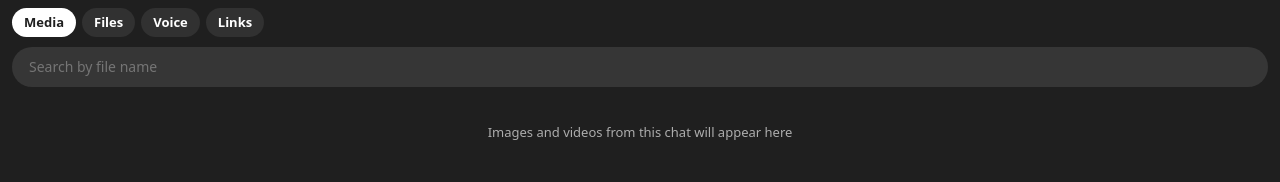
Scenario: SharedPanel › loads media first and switches tabs
Check: the text "Images and videos from this chat will appear here" is shown, box 488,123 -> 792,141
Click the tab "Files": (109, 22) 82,8 -> 135,37
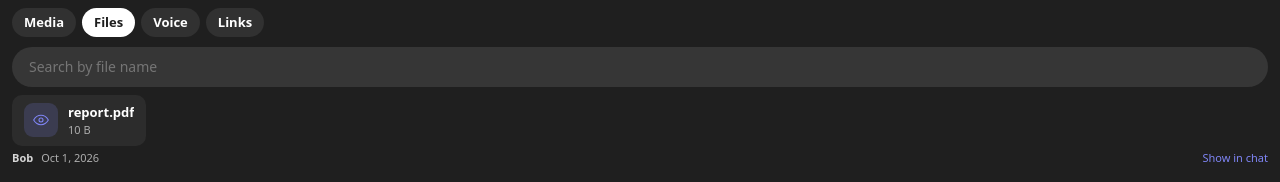
Check: the text "report.pdf" is shown, box 68,103 -> 134,122
Check: the text "Bob" is shown, box 12,150 -> 33,166
